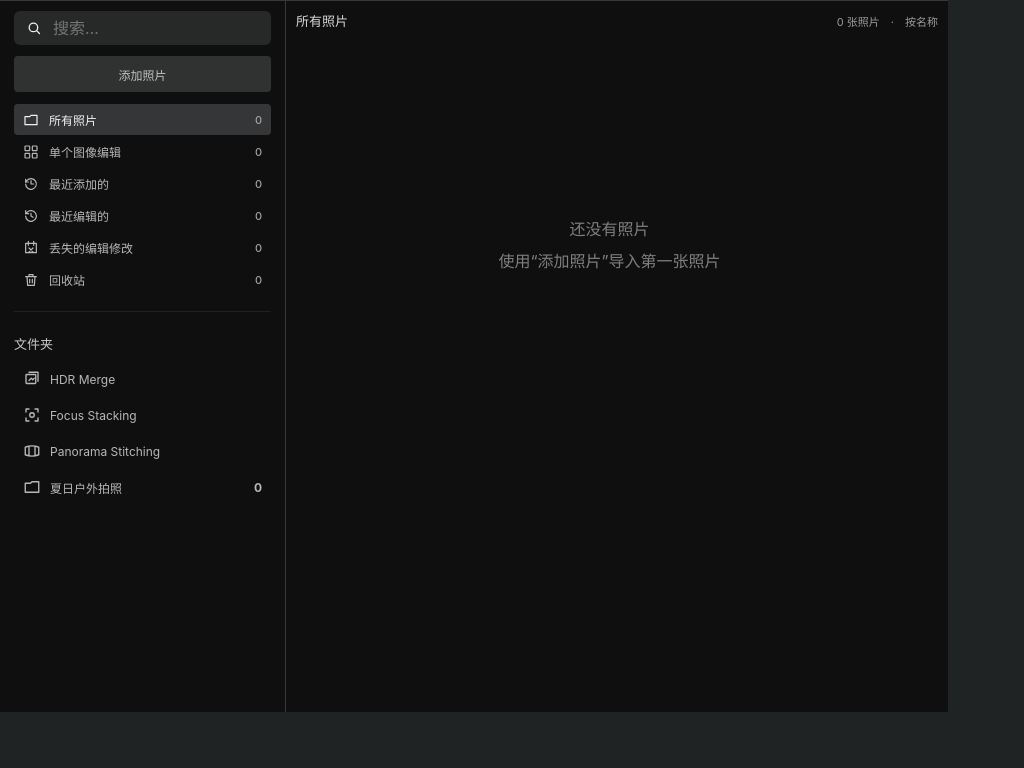
Test: CatalogWorkspace › exposes the matching folder context menu
The image size is (1024, 768).
Right-click the button "Focus Stacking": (142, 415) 14,398 -> 271,432
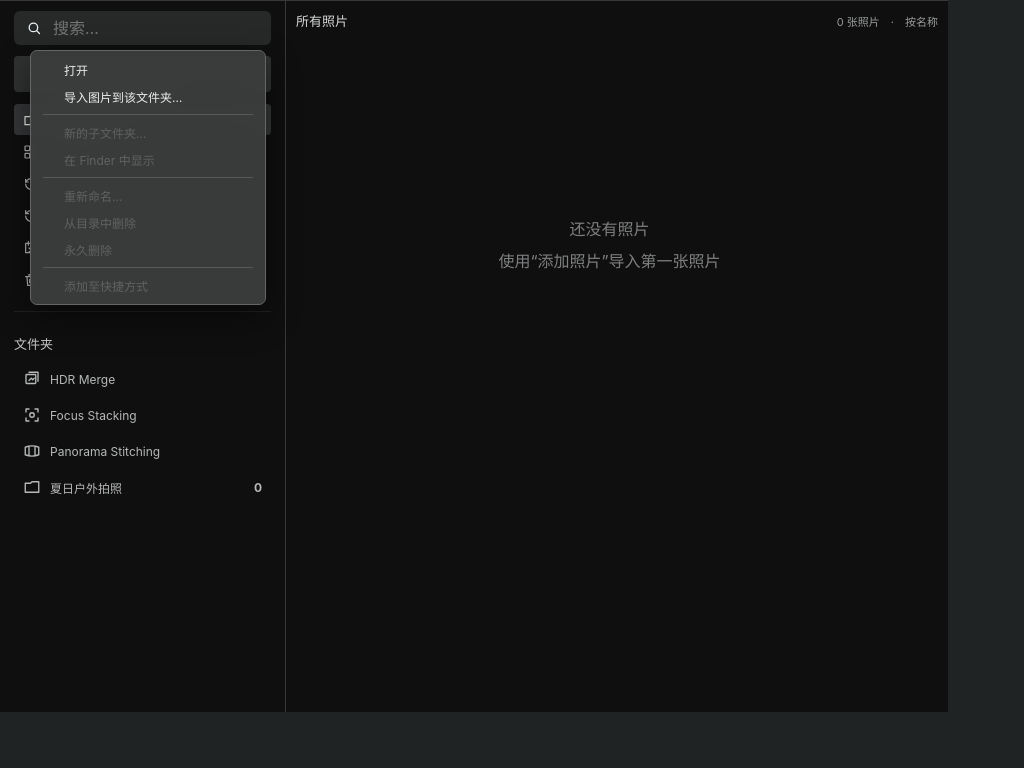
Check: the menu named "文件夹操作" is shown, box 30,50 -> 266,305
Check: the menu item "导入图片到该文件夹…" is shown, box 36,83 -> 260,110
